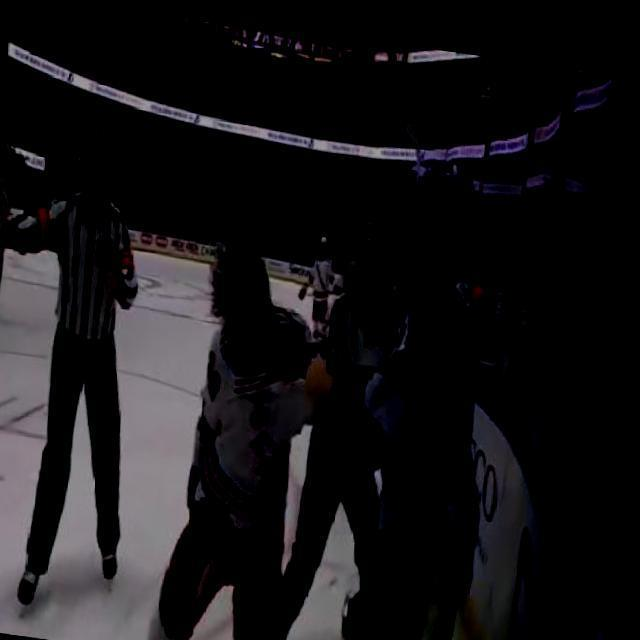fight: (163, 114, 508, 640)
